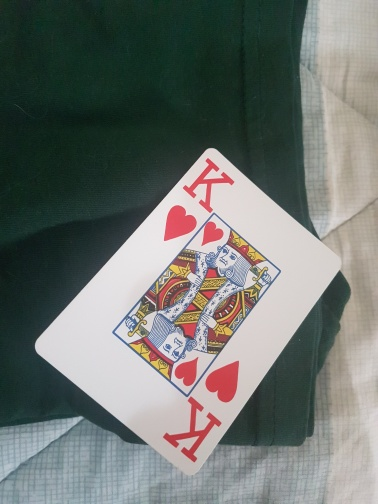king: (39, 146, 340, 475)
